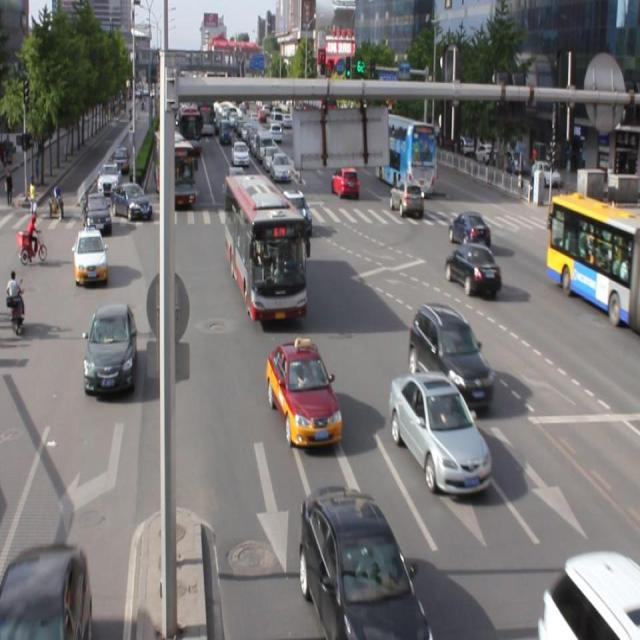car: (299, 484, 431, 640), (388, 368, 492, 492), (538, 547, 640, 640), (408, 300, 492, 410), (1, 540, 91, 640), (265, 336, 341, 444), (83, 303, 138, 394), (445, 242, 501, 294), (446, 208, 491, 249)
van: (544, 192, 640, 329), (225, 174, 307, 319)
